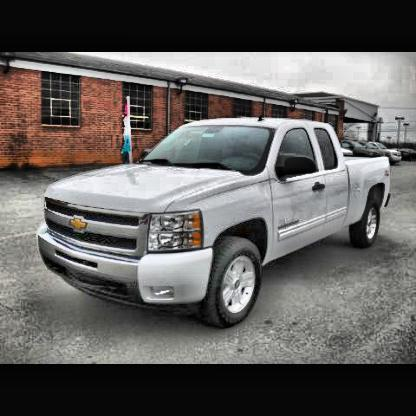Chevrolet Silverado 1500 Extended Cab 2012: (38, 99, 395, 329)
